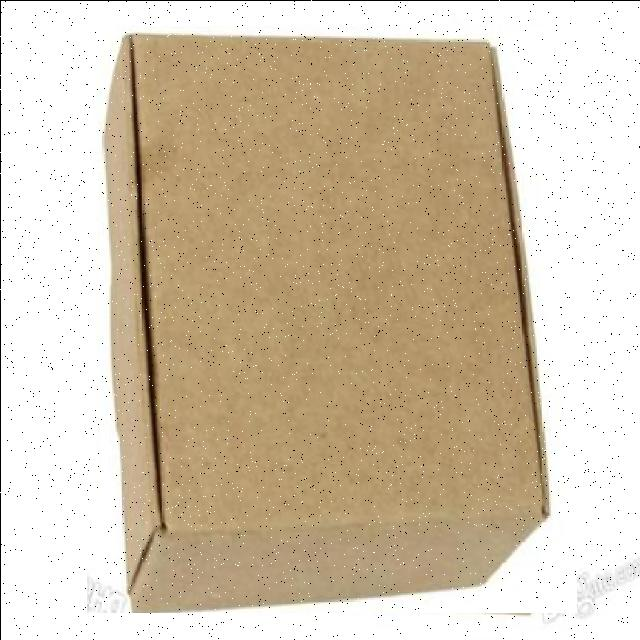normal: (86, 25, 576, 612)
